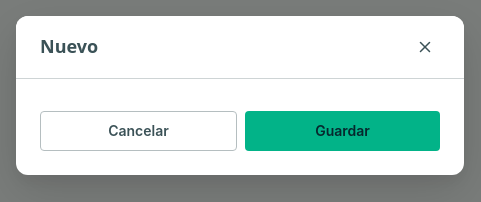
it: FormDialog › con onSubmit asíncrono bloquea el botón y no envía dos veces
Later steps or results of the test are not shown.
Click the button "Guardar" at (342, 130), box [245,110,440,150]
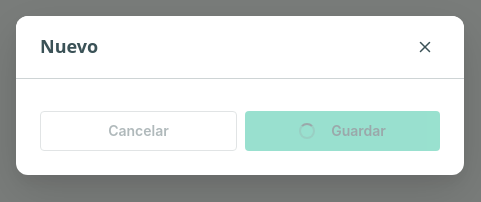
Click the button "Guardar" at (342, 130), box [245,110,440,150]
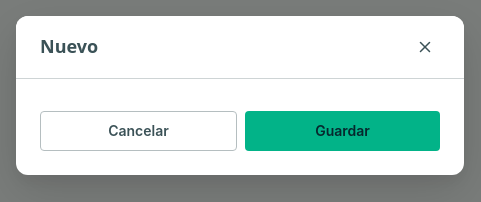
Now the button "Guardar" is enabled, box [245,110,440,150]
